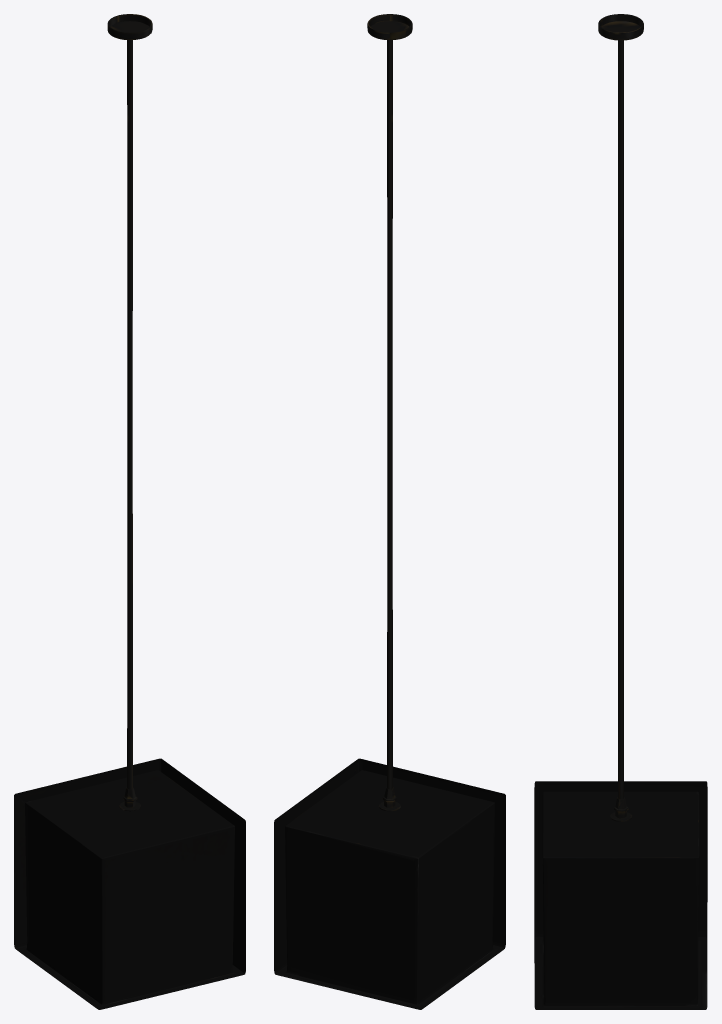
Rendered from lighting_pendant_light_f68a40ce-cd37-59fa-8d45-a2ff28d0226e.glb.
3 renders of one model, left to right at view 1: azimuth 30°, elevation 25°; view 2: azimuth 150°, elevation 25°; view 3: azimuth 270°, elevation 25°, orthographic.
Parts seen in each view (by area): view 1: raw_model.obj; view 2: raw_model.obj; view 3: raw_model.obj.
Part boxes in pixels (box(x1,y1,x2,y2)): raw_model.obj: box(14, 14, 245, 1009); raw_model.obj: box(274, 14, 505, 1009); raw_model.obj: box(534, 14, 707, 1009).
Size of the model in its own units: 0.15 by 0.9085 by 0.15.
Materials: 1 (1 with a texture image).
